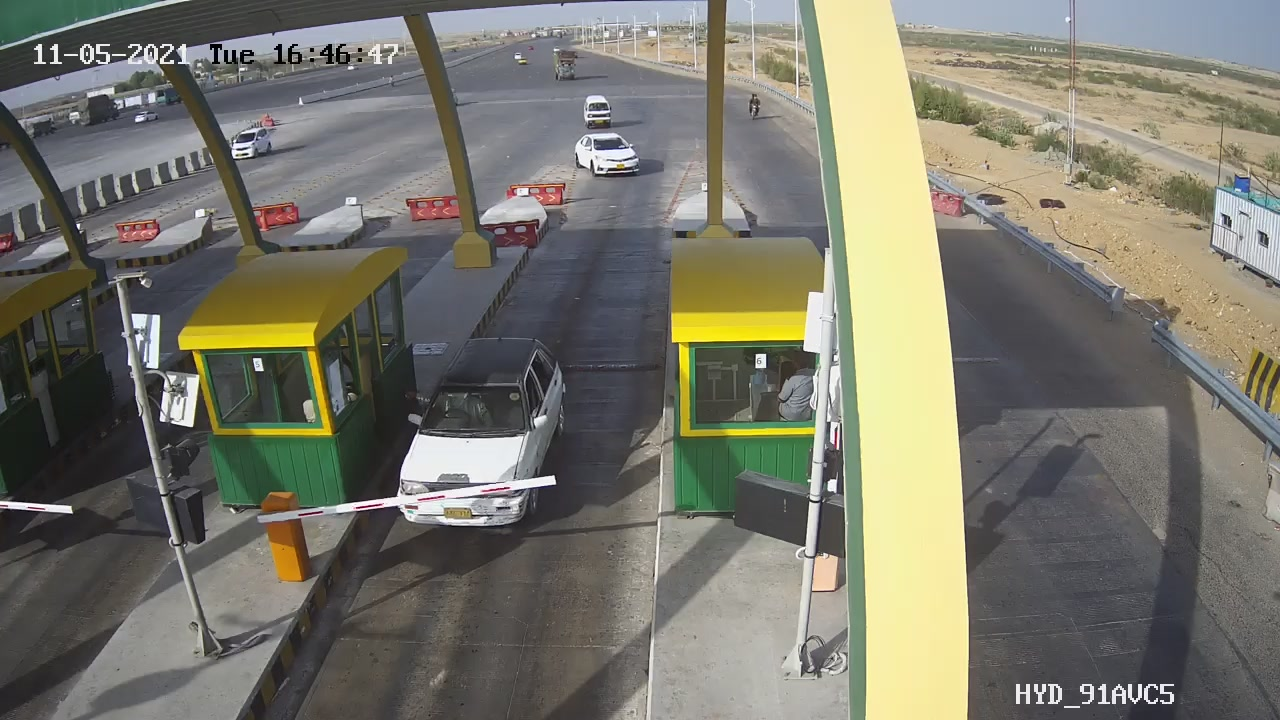F1: (372, 318, 588, 546)
